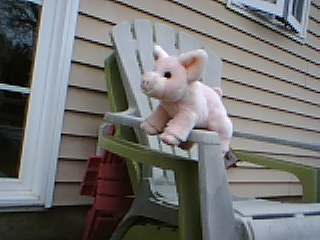piggy: (139, 44, 236, 151)
